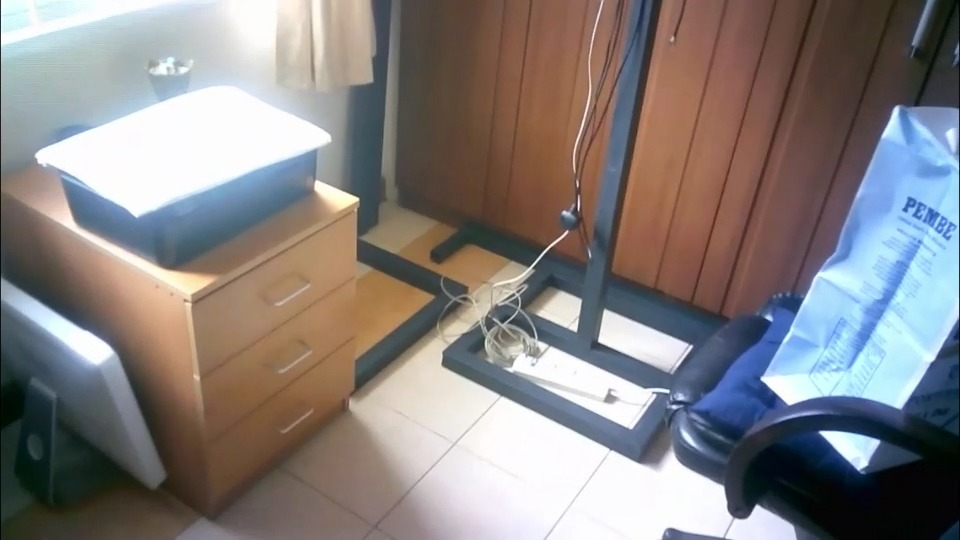wheat_flour_blue_label: (767, 104, 960, 475)
